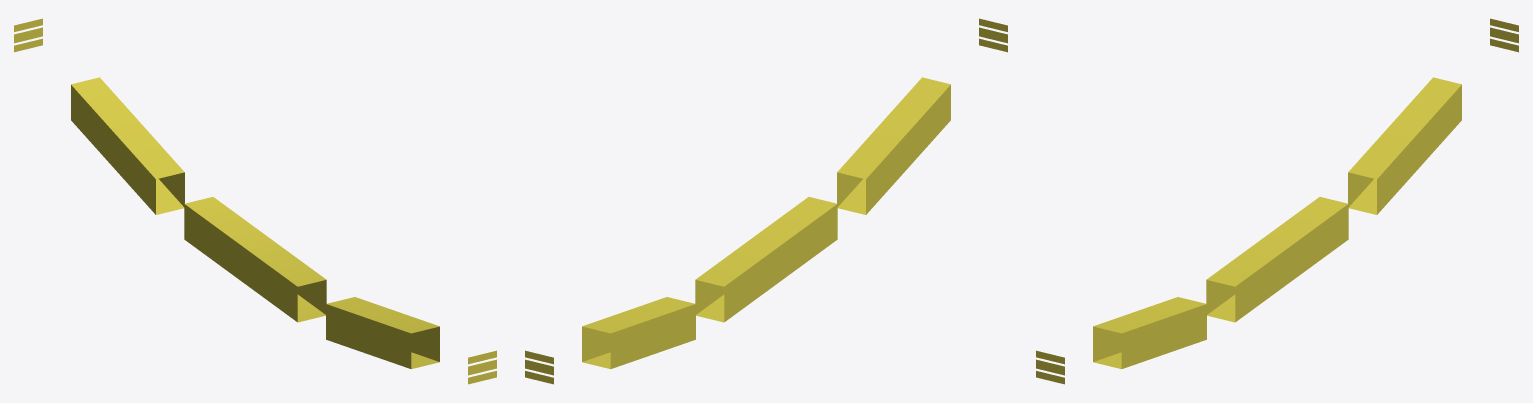
File: Weapon_Shoot_L.FBX
3 renders of one model, left to right at view 1: azimuth 30°, elevation 25°; view 2: azimuth 150°, elevation 25°; view 3: azimuth 330°, elevation 25°, orthographic.
Visible parts, largest first — view 1: LShoot; view 2: LShoot; view 3: LShoot.
Part boxes in pixels (<box>): LShoot: <box>14,18,496,384</box>; LShoot: <box>525,18,1007,384</box>; LShoot: <box>1036,18,1518,384</box>.
Bounding box in the file's own units: 1.52 × 4.73 × 41.41.
1 material, 1 textured.
